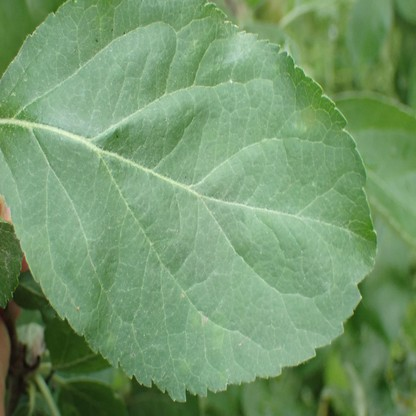powdery_mildew: (0, 225, 20, 279)
scab: (295, 108, 322, 134), (212, 315, 225, 347), (192, 311, 201, 329)
